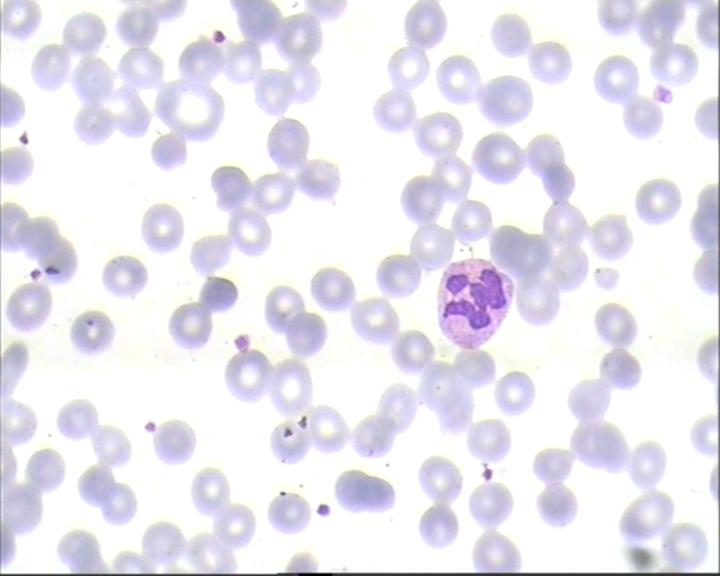neut: (432, 254, 515, 350)
